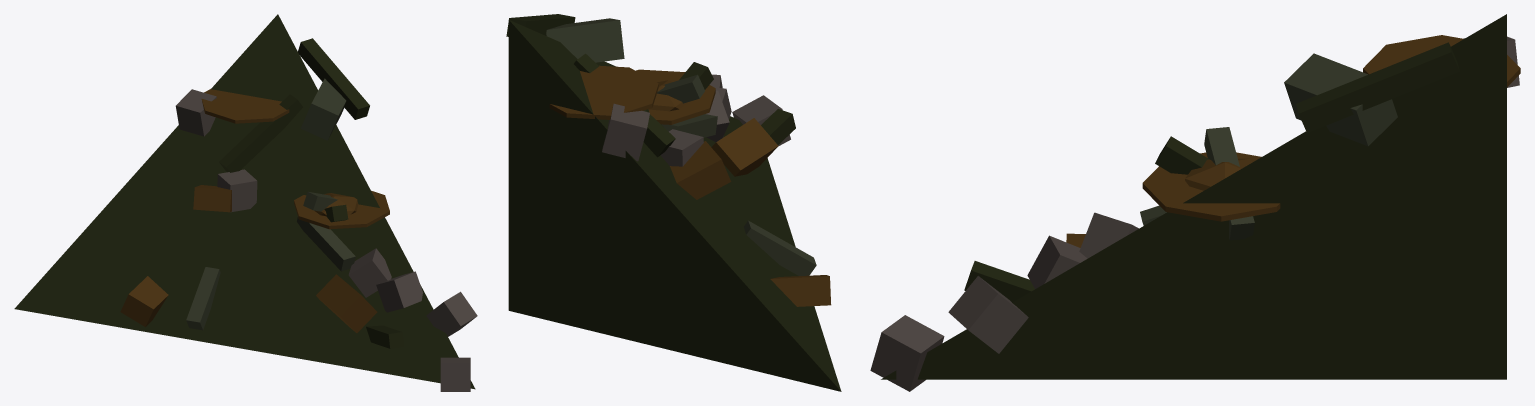
The model's file is SM_PilaZombi_RemateIzq_Altura4_s2_LOD1.fbx.
3 renders of one model, left to right at view 1: azimuth 30°, elevation 25°; view 2: azimuth 150°, elevation 25°; view 3: azimuth 270°, elevation 25°, orthographic. The views are drawn at different scales.
Visible parts, largest first — view 1: SM_pila_zombis_v13_LOD1; view 2: SM_pila_zombis_v13_LOD1; view 3: SM_pila_zombis_v13_LOD1.
Part boxes in pixels (x1=…): SM_pila_zombis_v13_LOD1: x1=14, y1=14, x2=477, y2=391; SM_pila_zombis_v13_LOD1: x1=506, y1=14, x2=841, y2=391; SM_pila_zombis_v13_LOD1: x1=870, y1=14, x2=1520, y2=391.
Bounding box in the file's own units: 2.73 × 2.1 × 3.3.
